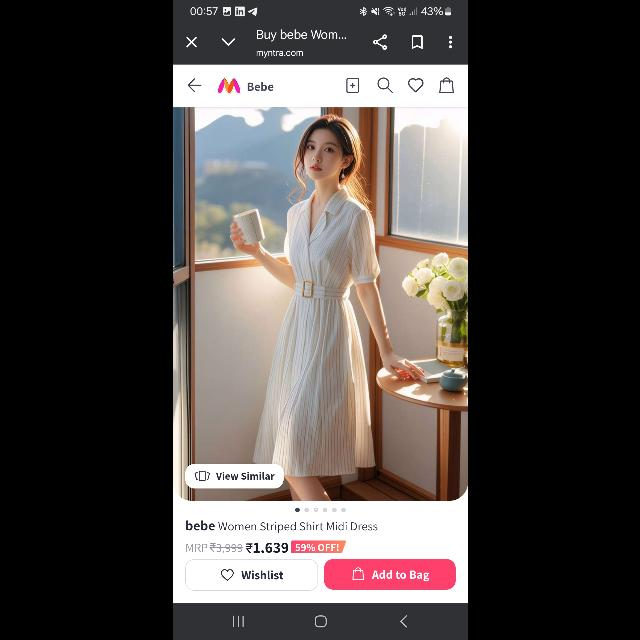dress: (277, 203, 373, 481)
